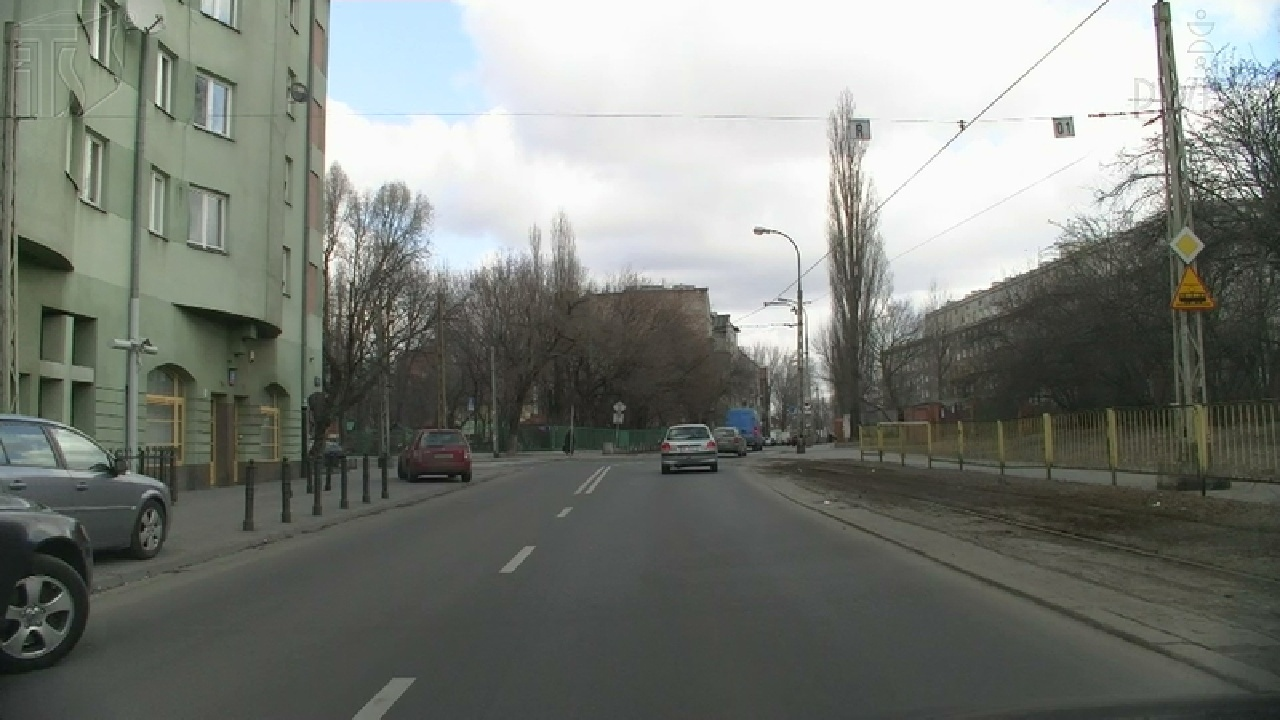A21: (1166, 267, 1224, 319)
D1: (1165, 219, 1209, 263)
